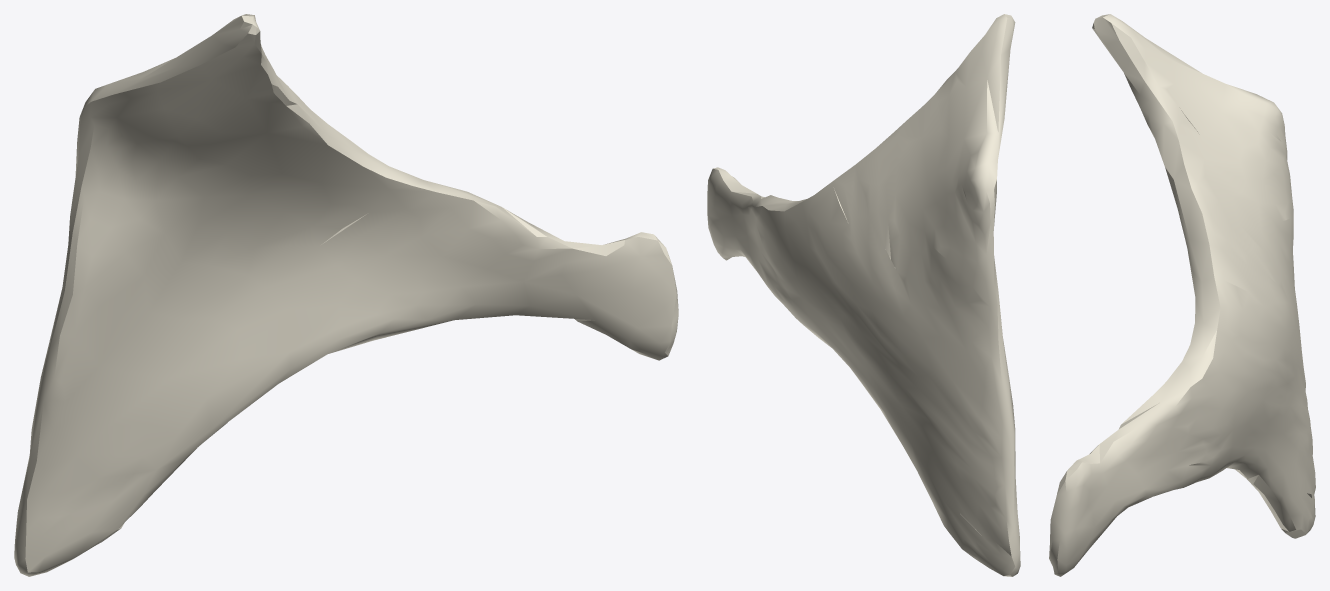
The model's file is fma312027_mm1361m.glb.
The picture shows the model from 3 angles, left to right: view 1: azimuth 30°, elevation 25°; view 2: azimuth 150°, elevation 25°; view 3: azimuth 270°, elevation 25°; orthographic projection. The views are drawn at different scales.
Parts seen in each view (by area): view 1: FMA312027_MM1361M; view 2: FMA312027_MM1361M; view 3: FMA312027_MM1361M.
Part boxes in pixels (x1=…): FMA312027_MM1361M: x1=14, y1=14, x2=678, y2=576; FMA312027_MM1361M: x1=707, y1=14, x2=1020, y2=576; FMA312027_MM1361M: x1=1049, y1=14, x2=1315, y2=576.
Size of the model in its own units: 0.0431 by 0.0474 by 0.0204.
